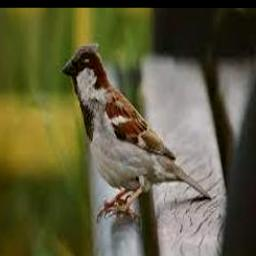Sparrow: (63, 44, 212, 223)
